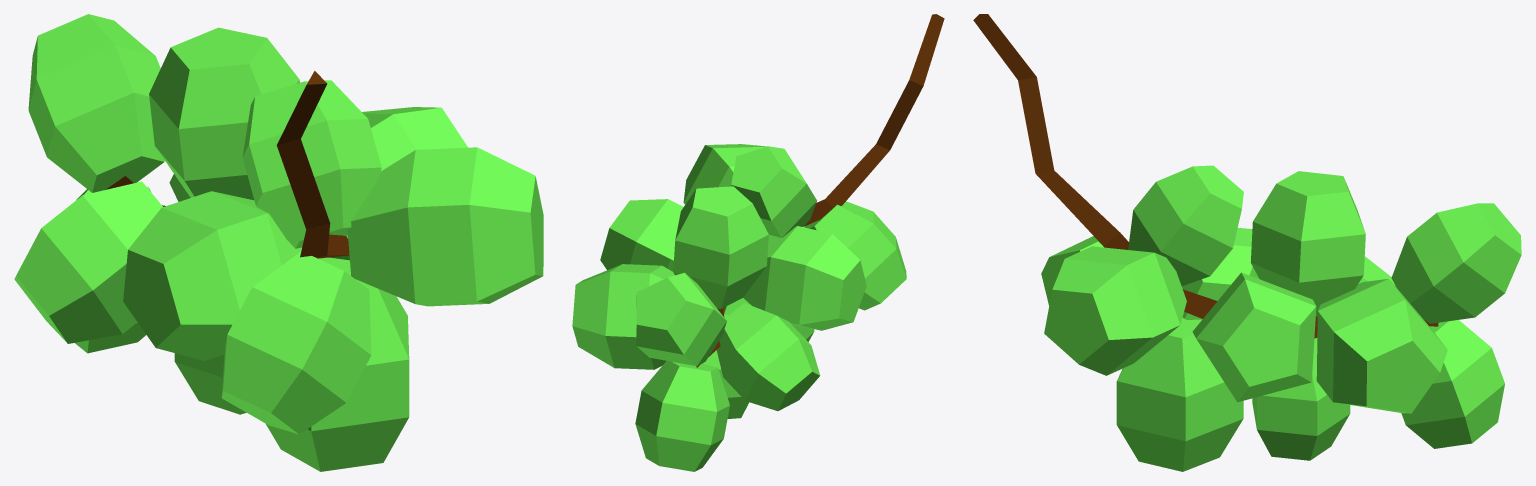
The model's file is grapes01.gltf.
3 views of the same model, side by side, from view 1: azimuth 30°, elevation 25°; view 2: azimuth 150°, elevation 25°; view 3: azimuth 270°, elevation 25° (orthographic). The views are drawn at different scales.
Visible parts, largest first — view 1: Cylinder.010; view 2: Cylinder.010; view 3: Cylinder.010.
Boxes of the visible parts, bbox=[...] form: Cylinder.010: bbox=[14, 14, 543, 471]; Cylinder.010: bbox=[572, 14, 944, 471]; Cylinder.010: bbox=[973, 14, 1521, 471].
Bounding box in the file's own units: 0.0617 × 0.0793 × 0.1004.
Materials: 1 (1 with a texture image).
